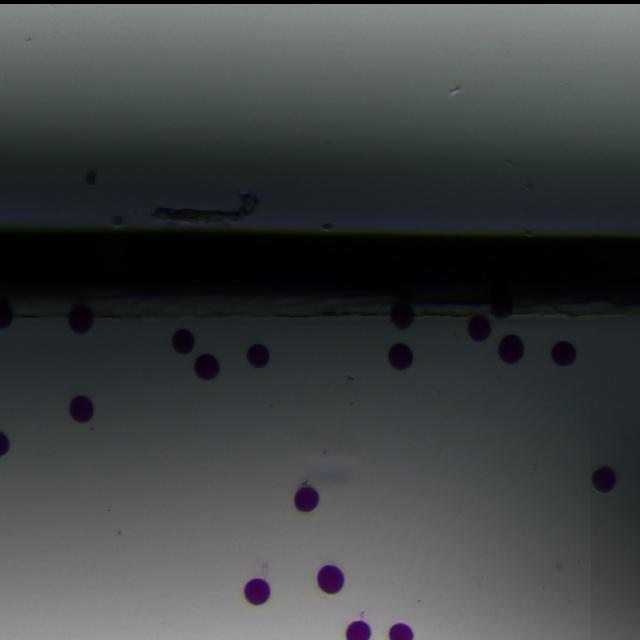viable: (68, 304, 93, 333), (318, 565, 343, 593), (499, 335, 523, 363), (194, 354, 219, 379), (388, 343, 412, 369), (245, 578, 269, 604), (593, 466, 616, 492), (70, 396, 93, 422), (390, 302, 413, 328), (294, 487, 318, 511), (551, 341, 575, 364), (468, 316, 490, 341), (173, 328, 194, 353), (247, 344, 269, 367), (346, 620, 370, 639), (389, 623, 413, 639), (0, 300, 12, 328), (0, 432, 9, 456)
